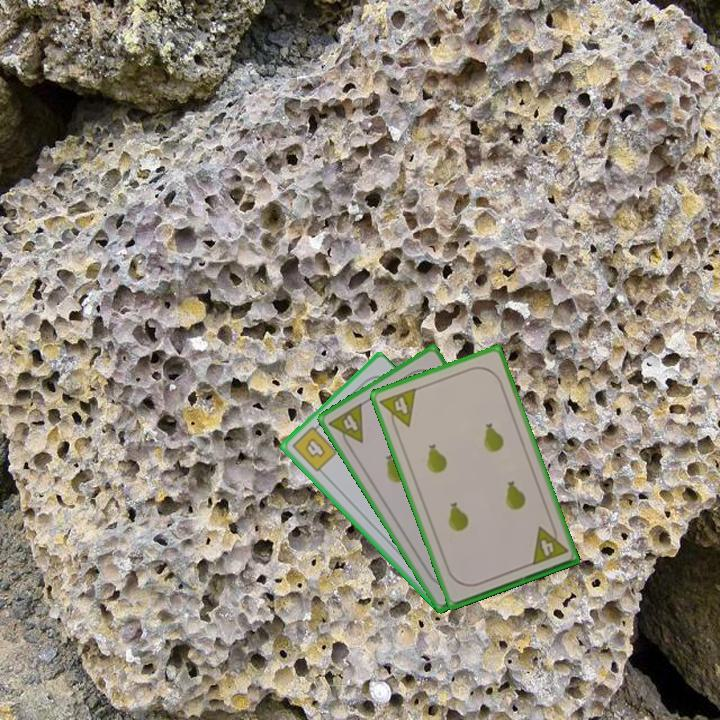4b: (288, 420, 340, 475)
4p: (325, 399, 366, 453), (376, 384, 419, 434), (528, 520, 571, 568)
